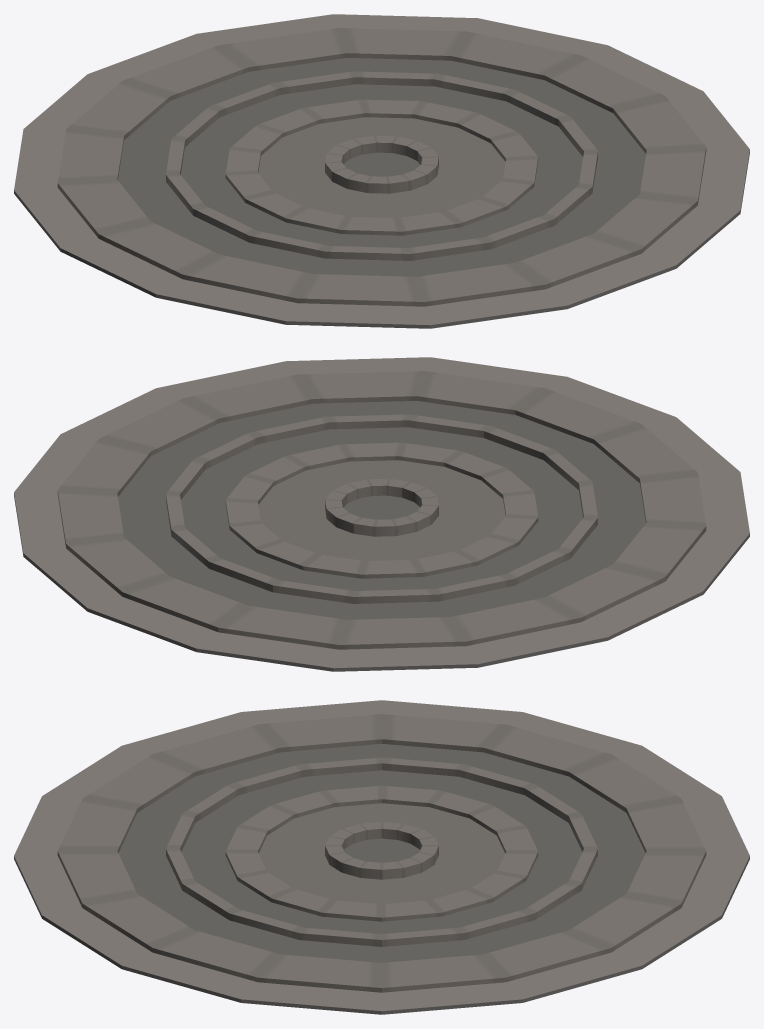
Rendered from SD_Env_StoneCircle_01.fbx.
The picture shows the model from 3 angles, top to bottom: view 1: azimuth 30°, elevation 25°; view 2: azimuth 150°, elevation 25°; view 3: azimuth 270°, elevation 25°; orthographic projection.
Parts seen in each view (by area): view 1: SD_Env_StoneCircle_01; view 2: SD_Env_StoneCircle_01; view 3: SD_Env_StoneCircle_01.
Boxes of the visible parts, bbox=[...] form: SD_Env_StoneCircle_01: bbox=[14, 14, 749, 328]; SD_Env_StoneCircle_01: bbox=[14, 357, 749, 671]; SD_Env_StoneCircle_01: bbox=[14, 700, 749, 1014].
Bounding box in the file's own units: 9.72 × 0.1956 × 9.72.
